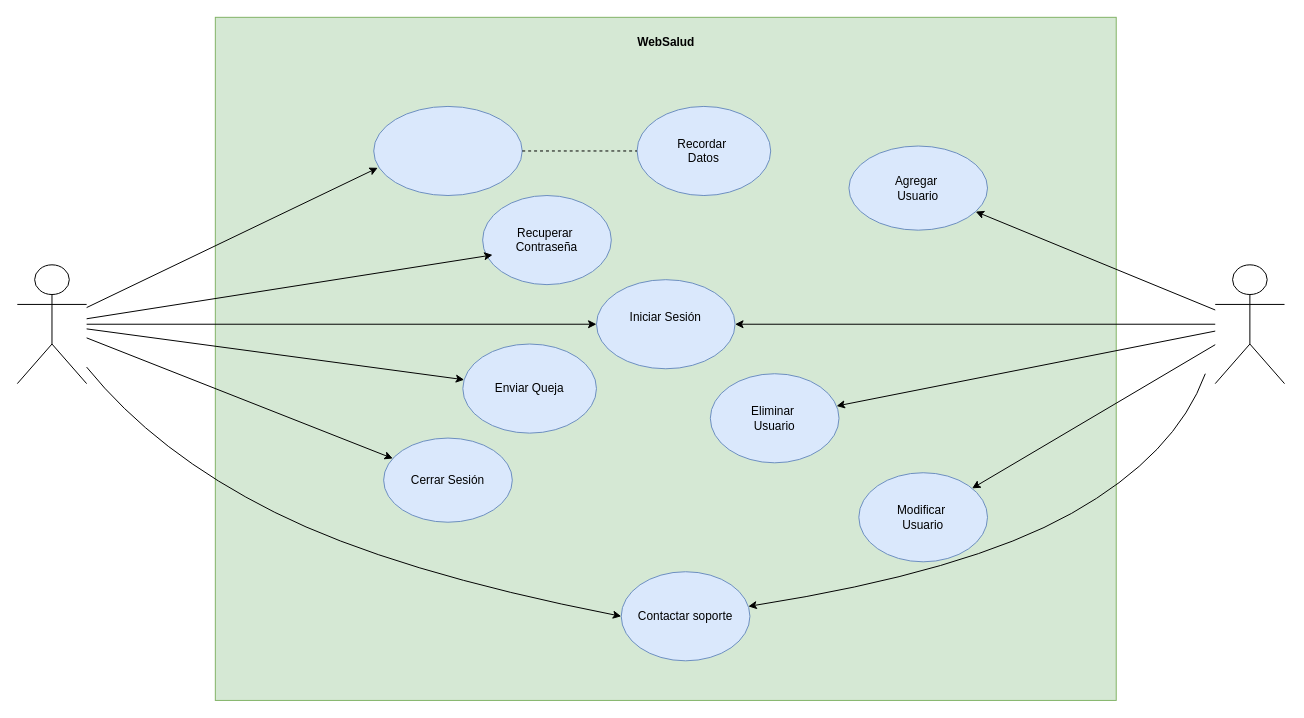
The diagram is 1304 pixels wide and 718 high, and some of its shapes have lost their labels. The box of each missing label's shape, as (x1, y1, x2, y2) in pixels:
Administrador: (1214, 264, 1285, 384)
Registrar Usuario: (373, 105, 522, 196)
Usuario: (16, 264, 87, 384)
